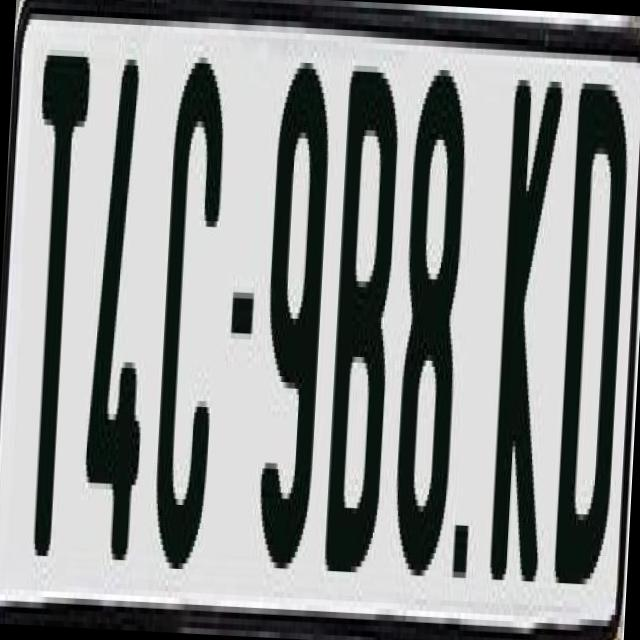4: (80, 58, 162, 561)
8: (389, 62, 470, 576)
9: (256, 56, 335, 564)
B: (320, 70, 401, 590)
C: (151, 39, 232, 558)
D: (550, 71, 629, 574)
K: (490, 74, 570, 594)
T: (18, 38, 96, 558)
